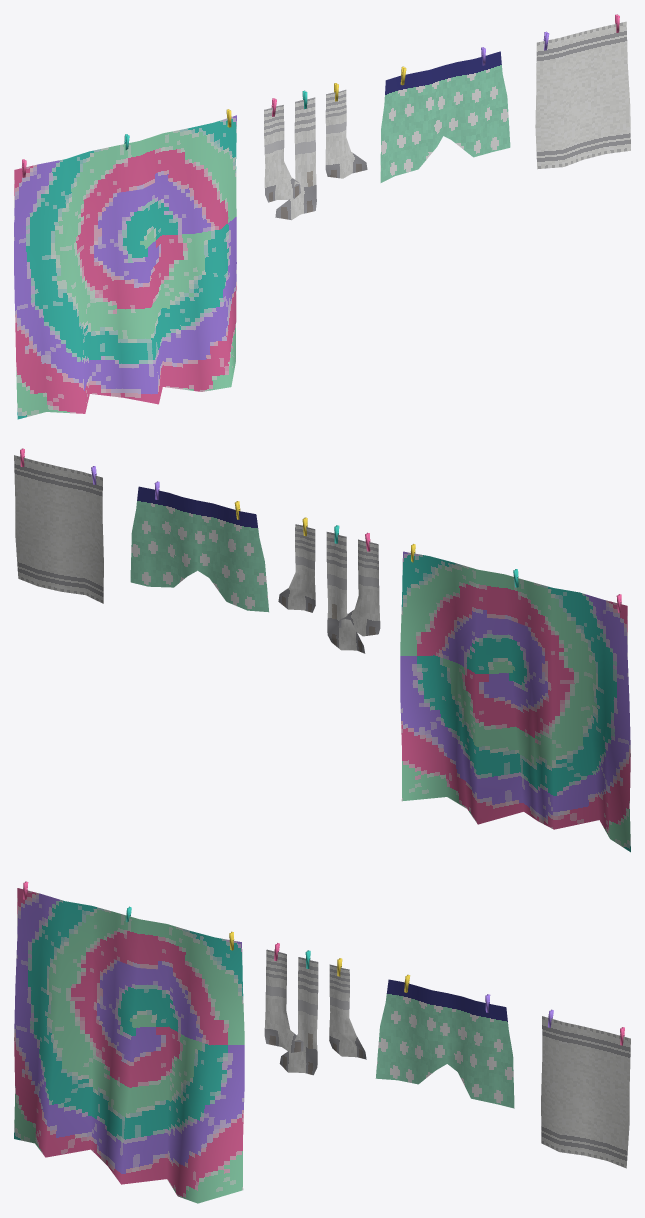
The model's file is s_laundry_b.glb.
The picture shows the model from 3 angles, top to bottom: view 1: azimuth 30°, elevation 25°; view 2: azimuth 150°, elevation 25°; view 3: azimuth 330°, elevation 25°; orthographic projection.
Parts seen in each view (by area): view 1: s_laundry_b_mesh; view 2: s_laundry_b_mesh; view 3: s_laundry_b_mesh.
Boxes of the visible parts, x1=… form: s_laundry_b_mesh: x1=14, y1=14, x2=630, y2=419; s_laundry_b_mesh: x1=14, y1=448, x2=630, y2=852; s_laundry_b_mesh: x1=14, y1=881, x2=630, y2=1203.
Size of the model in its own units: 2.75 by 1.12 by 0.182.
3 materials, 3 textured.
